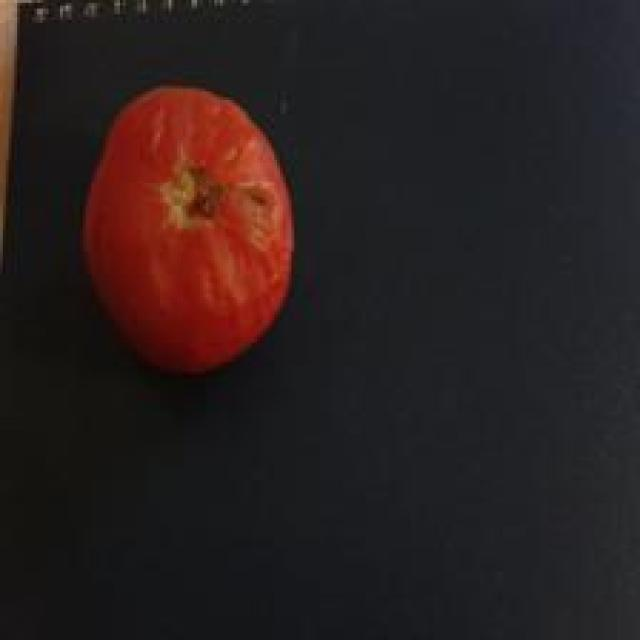overripe: (80, 78, 295, 380)
